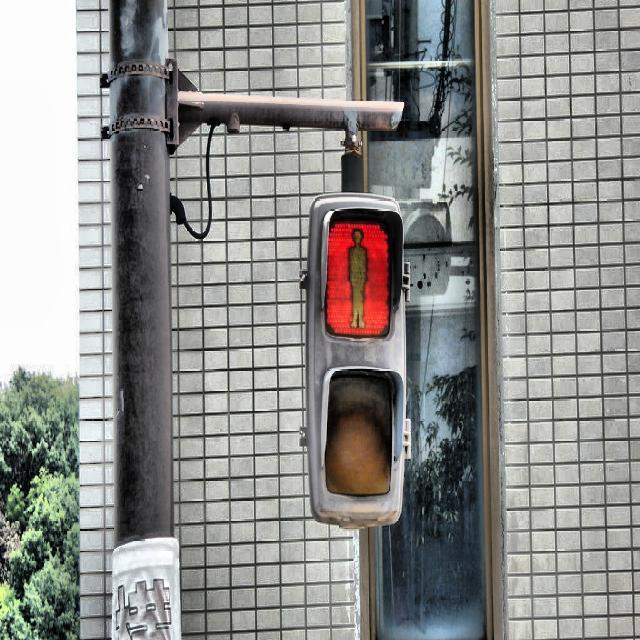red_light: (344, 224, 372, 334)
